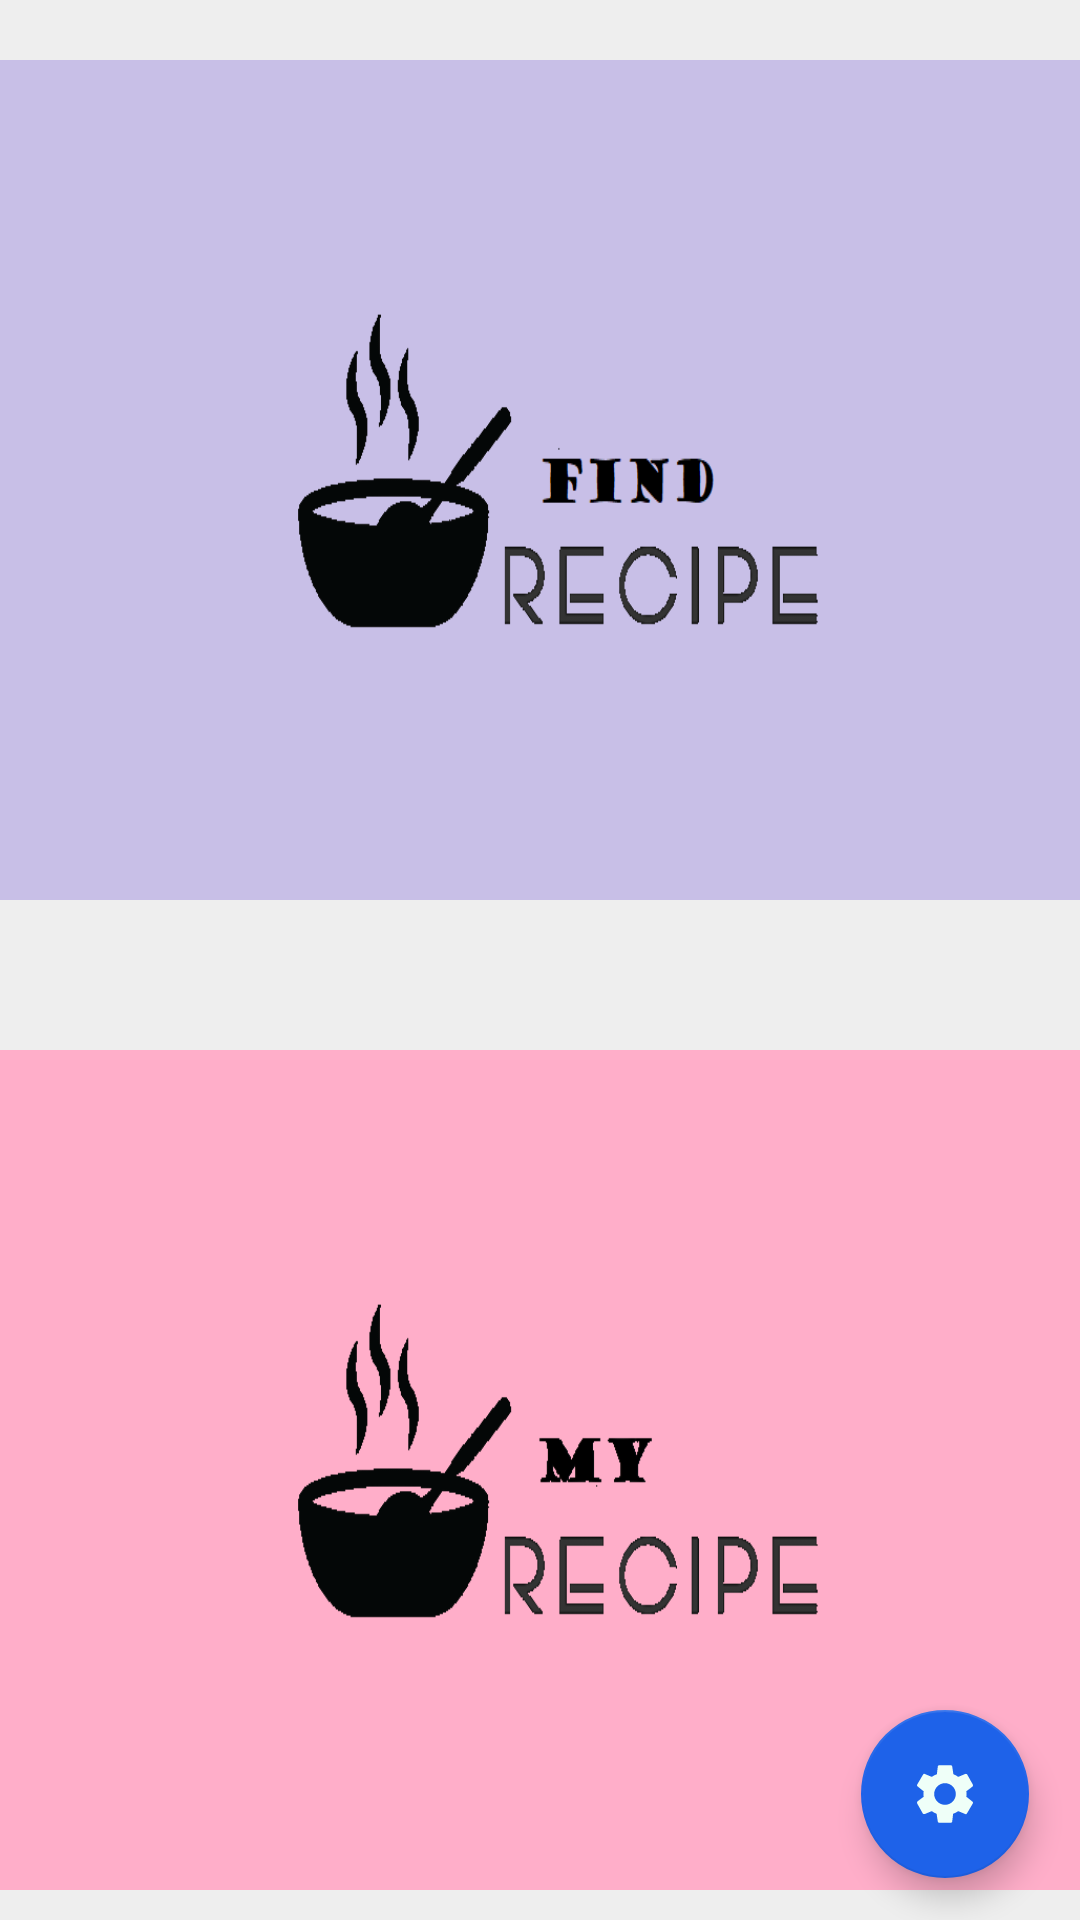

Icon click points for this 1080 × 1920 phone screenshot, format point (x, y):
settings: point (945, 1794)
